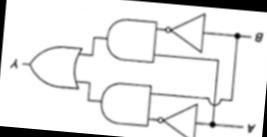and: (94, 77, 155, 129), (101, 13, 160, 65)
not: (160, 7, 208, 56), (152, 97, 200, 137)
or: (24, 40, 85, 91)
